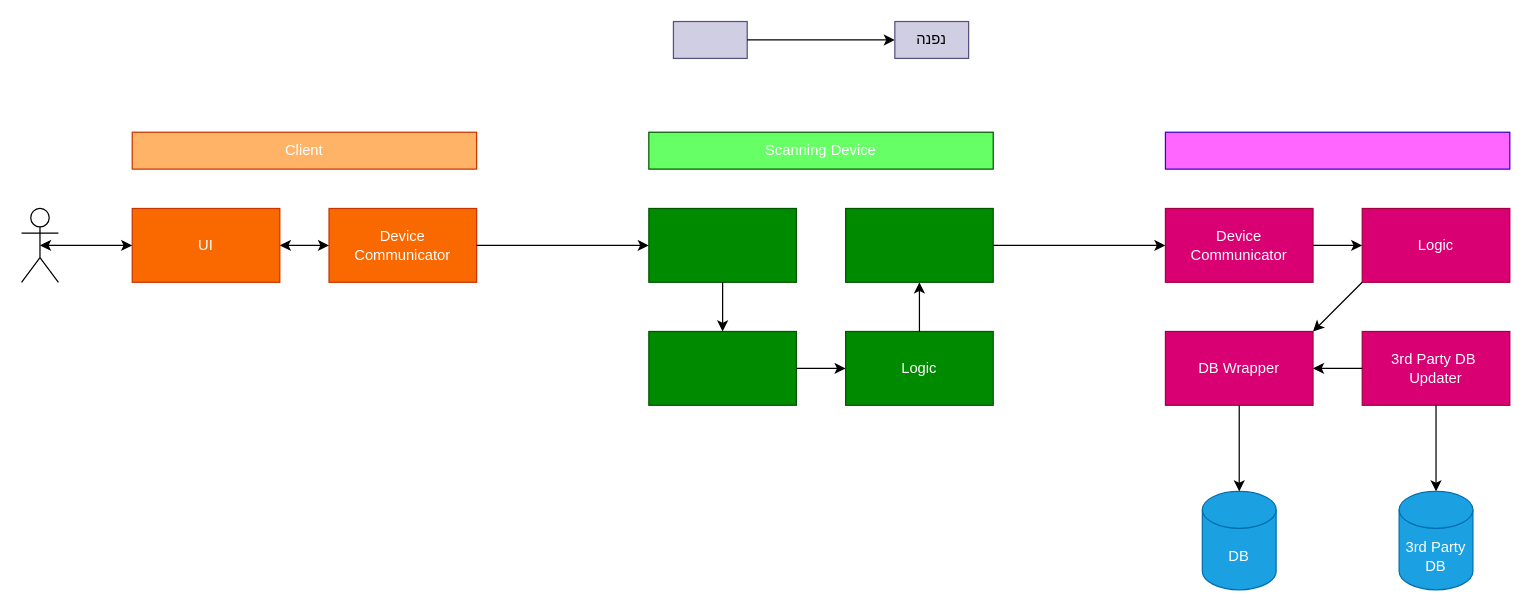
This 1531x611 diagram has some shape labels left out. Here are the shapes that lost their labels. From the top down, the centre of each, then its label:
point 709,39: פונה
point 1337,150: Server
point 39,244: User
point 722,244: Client Communicator
point 918,244: Server Communicator
point 722,367: Scans
